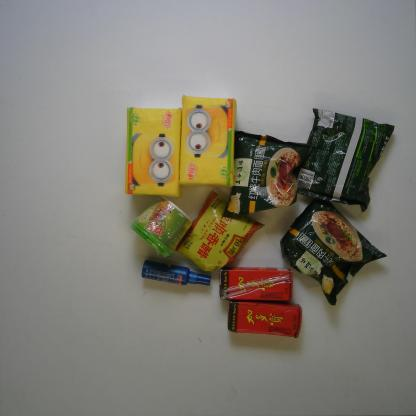Drink: (226, 301, 304, 337), (218, 266, 294, 301)
Instant Drink: (137, 199, 192, 258)
Instant Noodles: (279, 198, 386, 306), (298, 106, 398, 213), (229, 134, 308, 219)
Personal Hygiene: (136, 258, 212, 291)
Seasoner: (179, 189, 264, 272)
Tissue: (178, 93, 236, 188), (123, 106, 179, 194)
